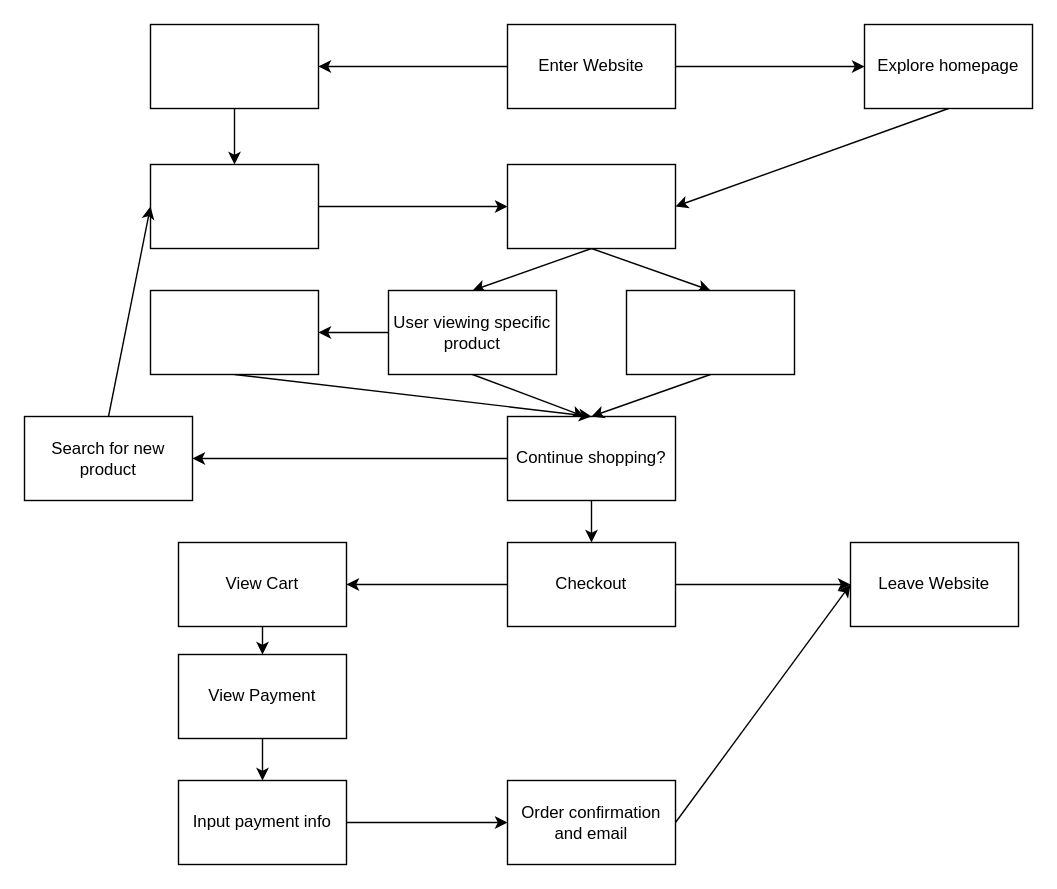
The diagram is 1057 pixels wide and 889 high, and some of its shapes have lost their labels. The shapes that lost their labels are listed below. From the top down, each one's centre as x and y in pixels, then its label:
At point (233, 65): "Search for product".
At point (233, 205): "User provide search input".
At point (591, 205): "User Looks Through Products".
At point (233, 331): "Add item to cart".
At point (709, 331): "User not viewing product".
